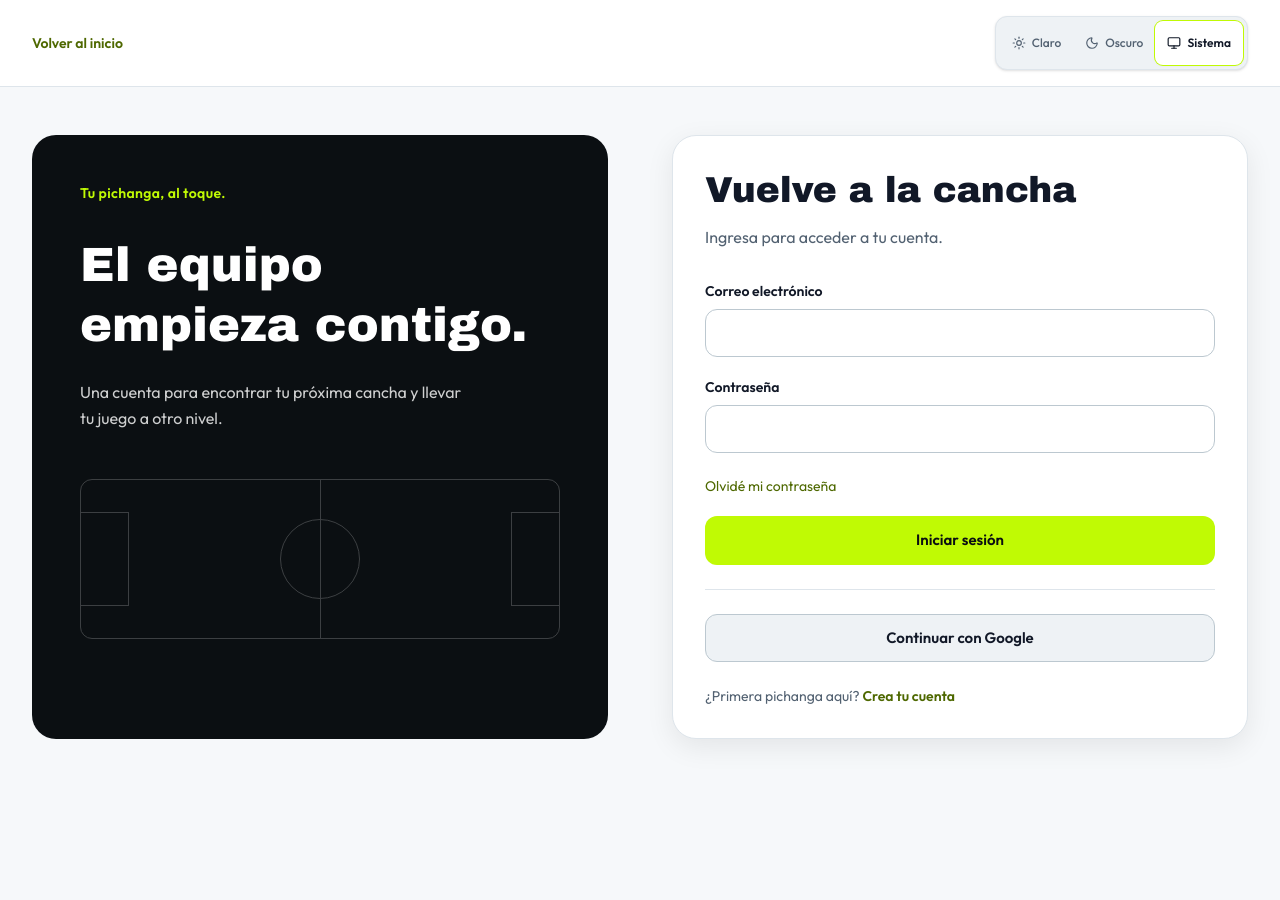
Scenario: Google muestra configuración pendiente sin fingir autenticación
The width and height of the screenshot is (1280, 900).
Click the button "Continuar con Google".
click(960, 638)  # box [705,614,1215,662]
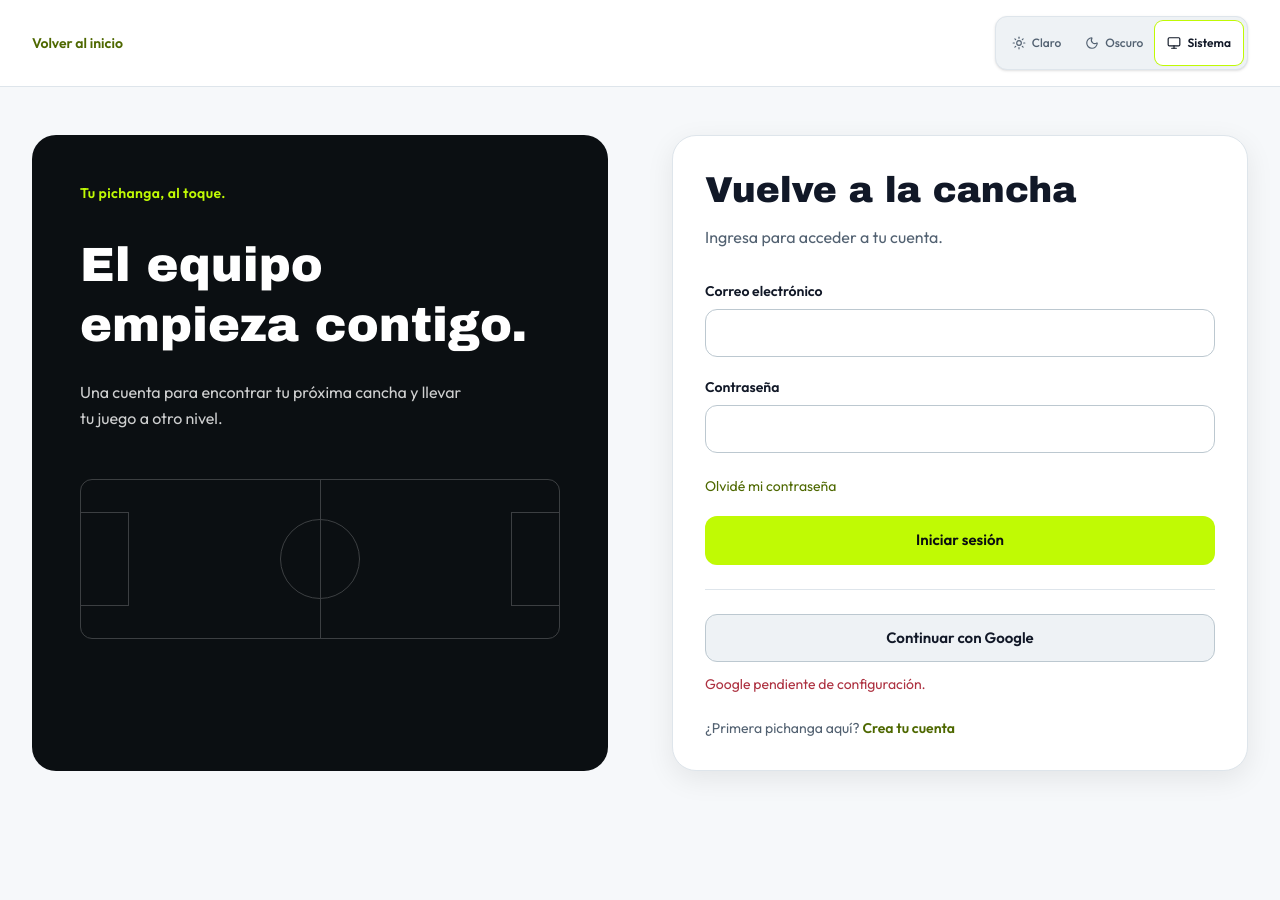
Now the message "Google pendiente de configuración." is shown, box [705,675,926,693]
